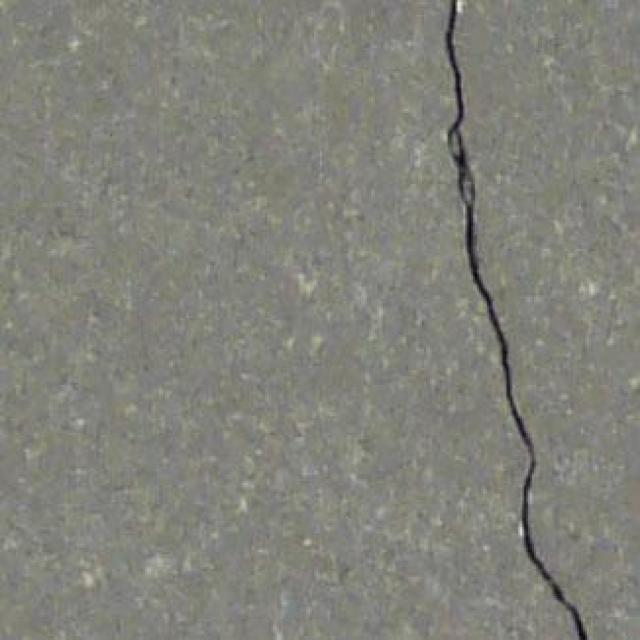vertical crack: (442, 0, 589, 638)
